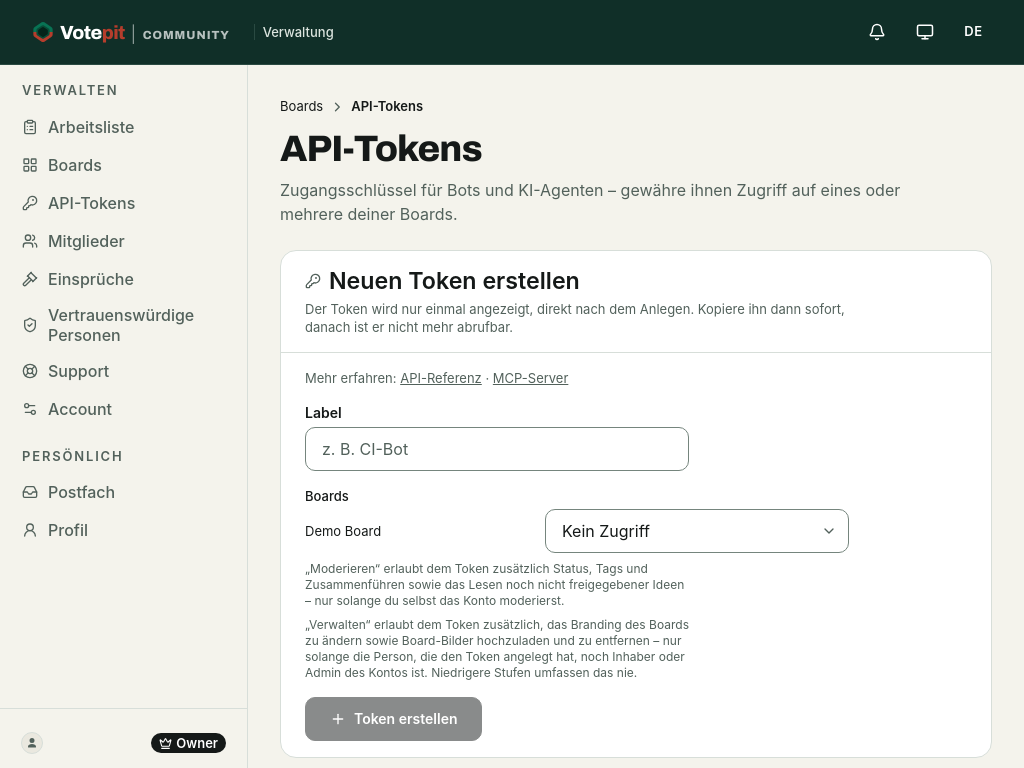
Test: ApiTokensPage — plan limit on create › explains the missing Agent API in plain words and offers the upgrade path to the owner
In the field labelled "Label": coordinates (497, 449) [305, 427, 689, 471], type "agent"
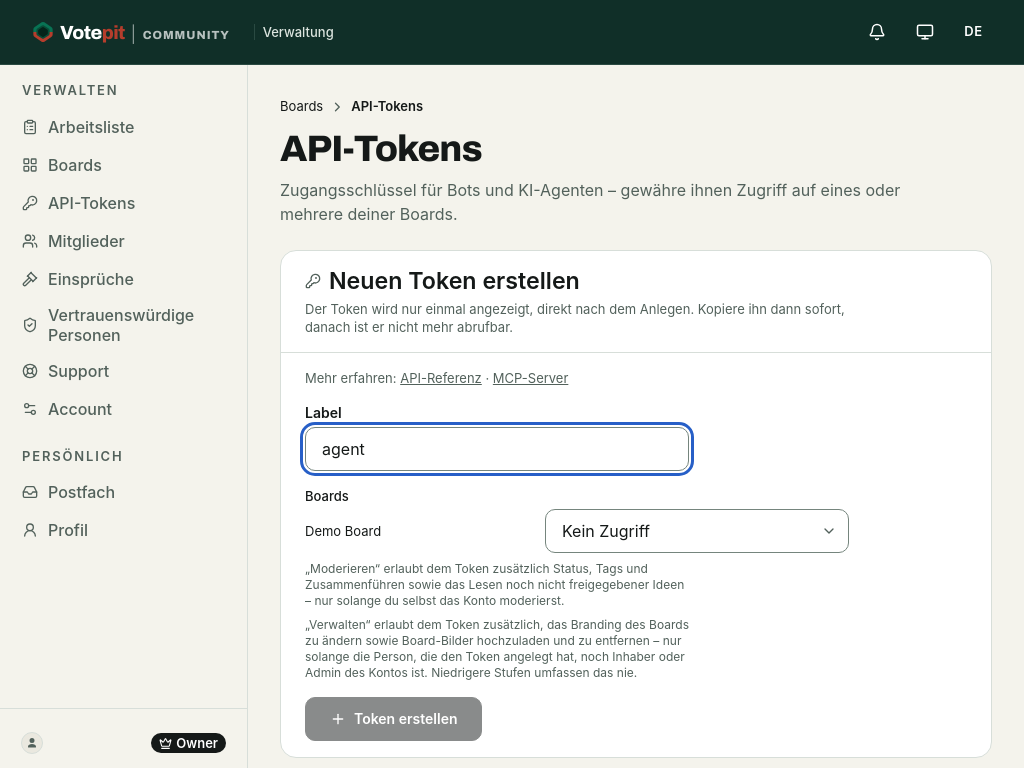
Select "Lesen & Schreiben" in the dropdown named "Zugriff für Demo Board": coordinates (697, 531) [545, 509, 849, 553]
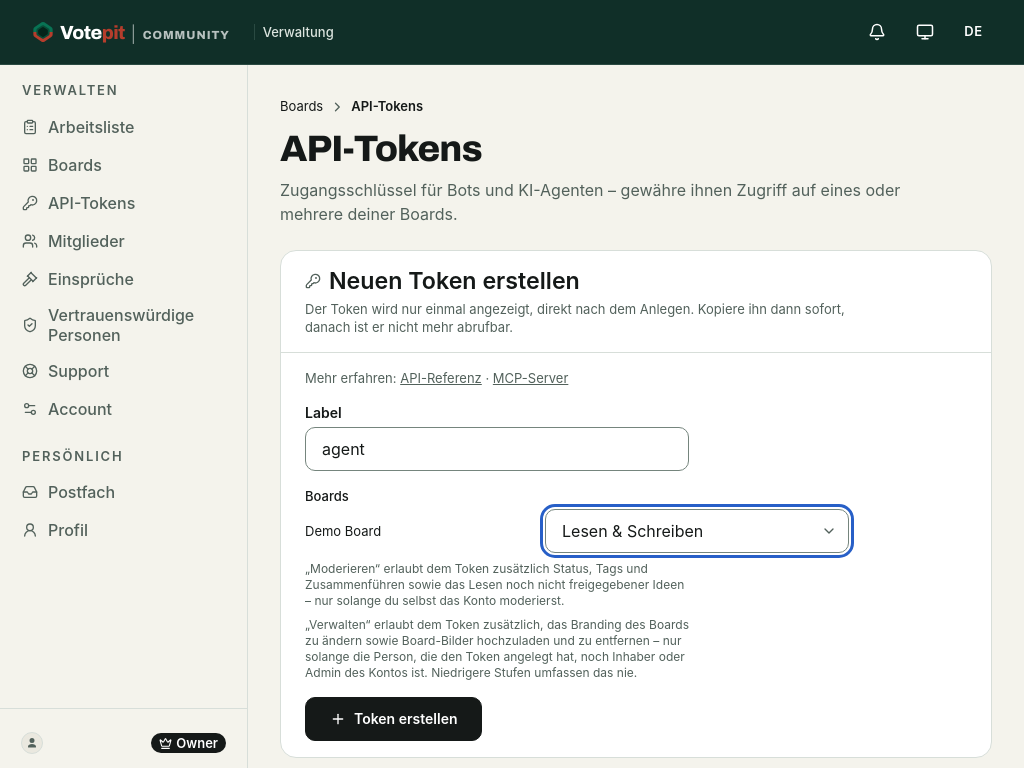
Click the button "Token erstellen": coordinates (394, 719) [305, 697, 482, 741]
(page scrolled)
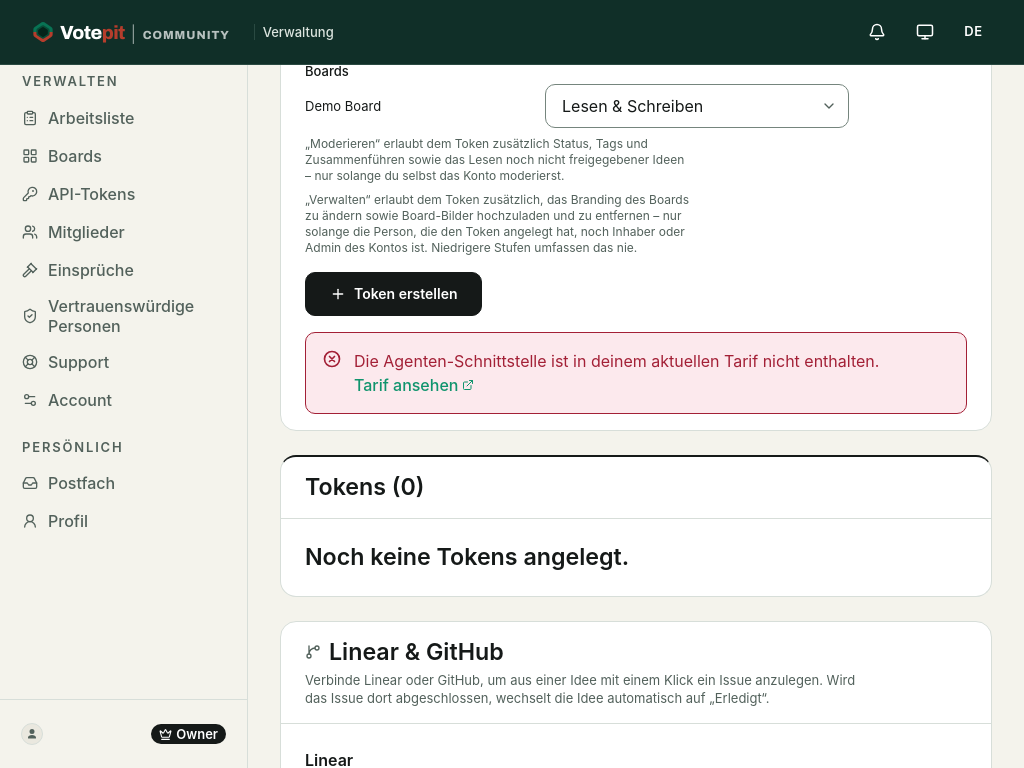
Expected: the message with test id "api-tokens-create-error" does not show "not available on your current plan", [305, 332, 967, 414]
Expected: the message with test id "api-tokens-create-error" shows "Die Agenten-Schnittstelle ist in deinem aktuellen Tarif nicht enthalten.", [354, 351, 879, 371]
